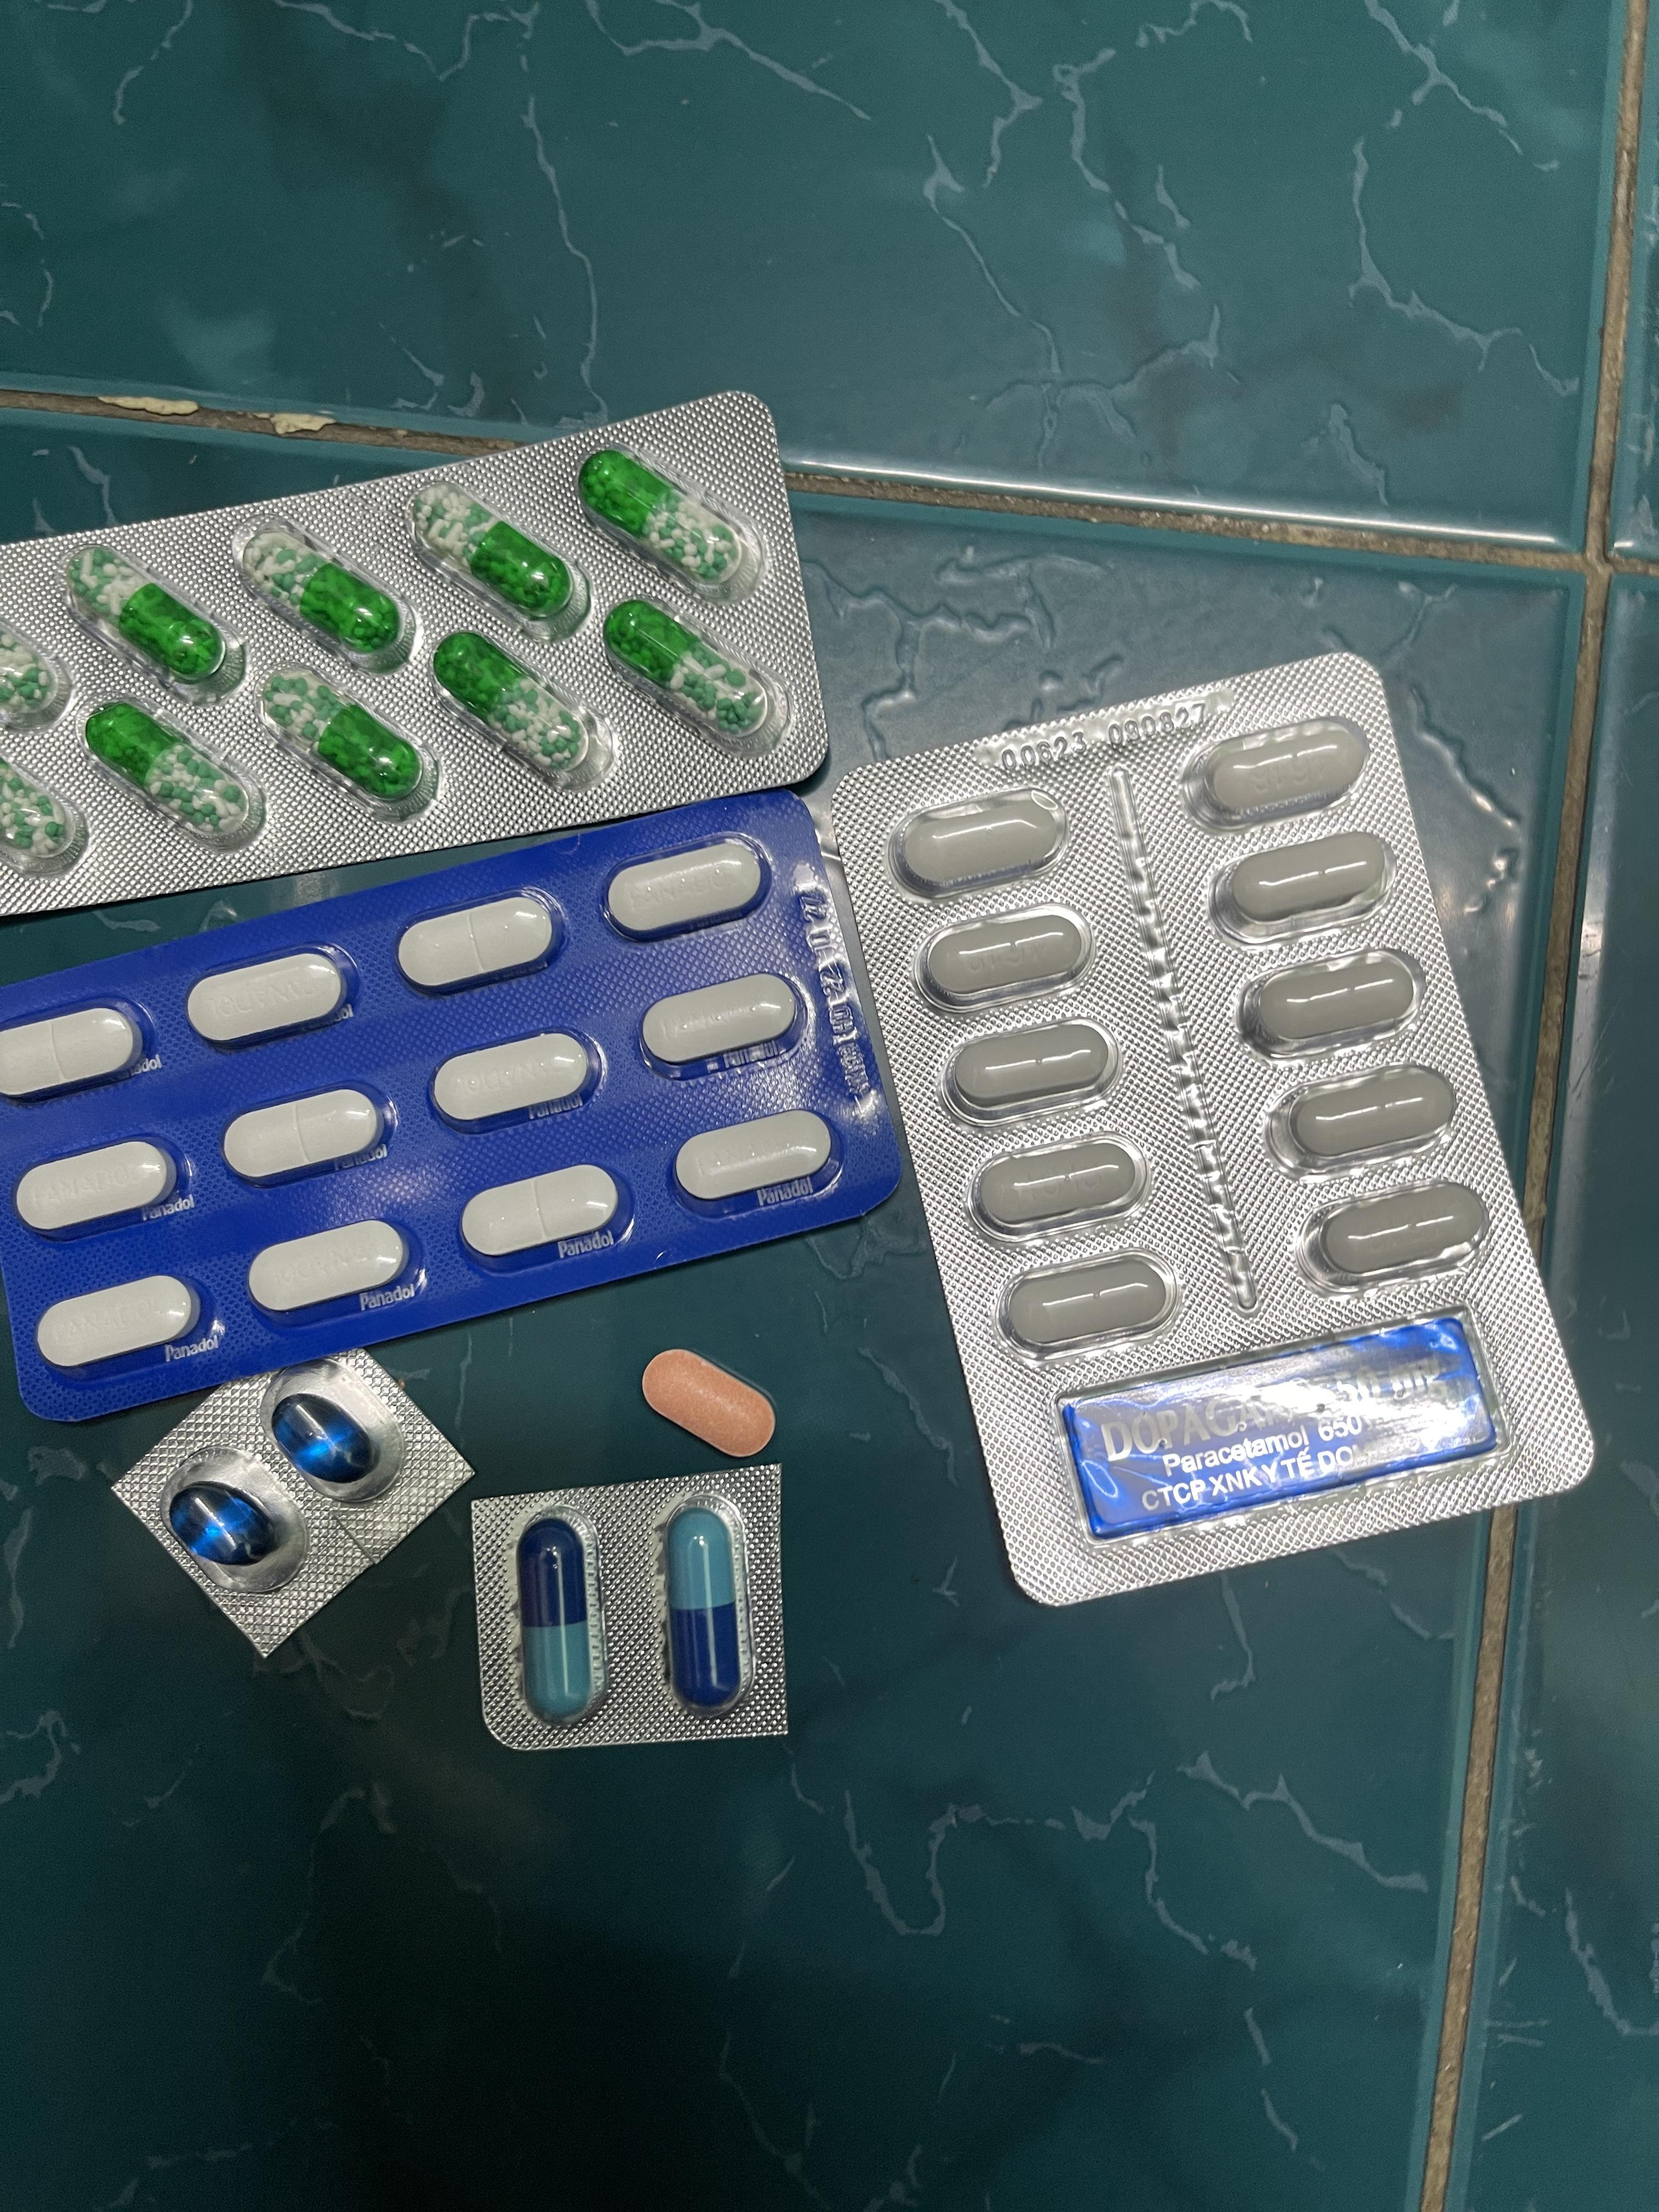Lincomyxin_500mg: (272, 1393, 378, 1487), (171, 1484, 281, 1569)
Loratadine_10mg: (645, 1350, 782, 1460)
Paracetamol_350mg: (185, 946, 356, 1049), (12, 1137, 181, 1240), (430, 1031, 599, 1132), (223, 1087, 389, 1190), (246, 1217, 410, 1320), (640, 972, 803, 1075), (462, 1163, 627, 1264), (605, 838, 770, 939), (399, 890, 565, 991), (33, 1273, 200, 1371), (673, 1111, 838, 1207), (0, 1000, 150, 1104)
Paracetamol_500mg: (1265, 1061, 1459, 1179), (1300, 1177, 1495, 1294), (1237, 944, 1427, 1062), (1183, 714, 1364, 829), (1213, 833, 1396, 946), (887, 786, 1065, 900), (967, 1132, 1145, 1245), (943, 1015, 1121, 1127), (999, 1247, 1182, 1353), (915, 900, 1089, 1010)
Paracetamol_650mg: (64, 542, 247, 705), (87, 702, 253, 838), (261, 669, 427, 803), (416, 488, 582, 622), (586, 451, 746, 589), (436, 634, 587, 775), (244, 528, 404, 660), (613, 601, 767, 733)
pill: (667, 1507, 742, 1712), (519, 1517, 594, 1719)
